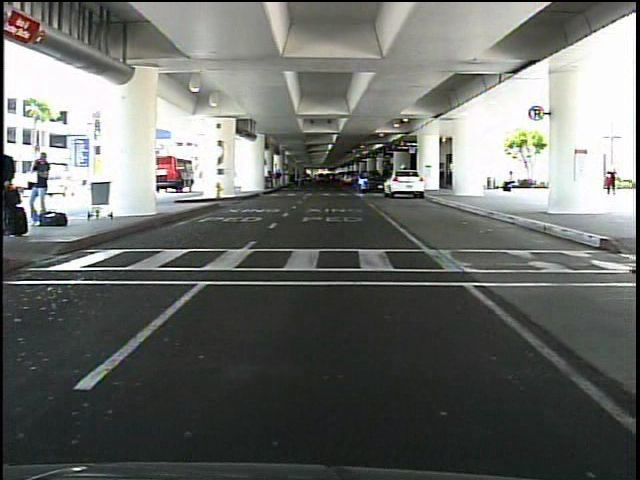person: (29, 147, 54, 230), (598, 163, 621, 202), (498, 165, 519, 197)
